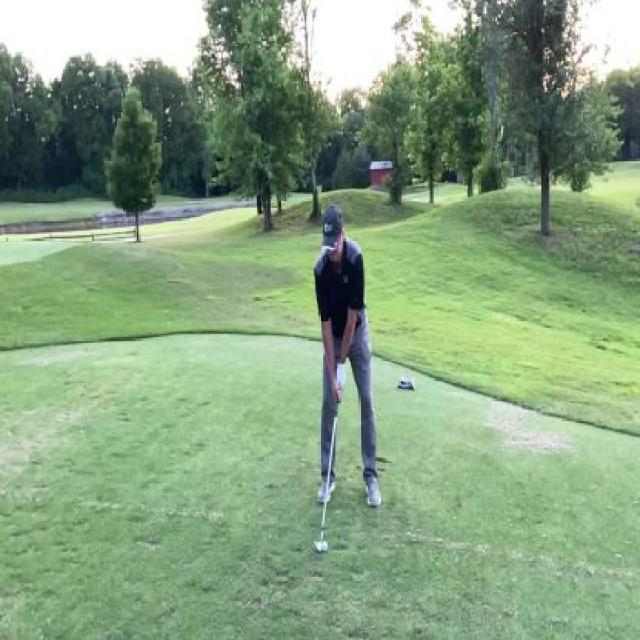club head: (314, 529, 323, 553)
